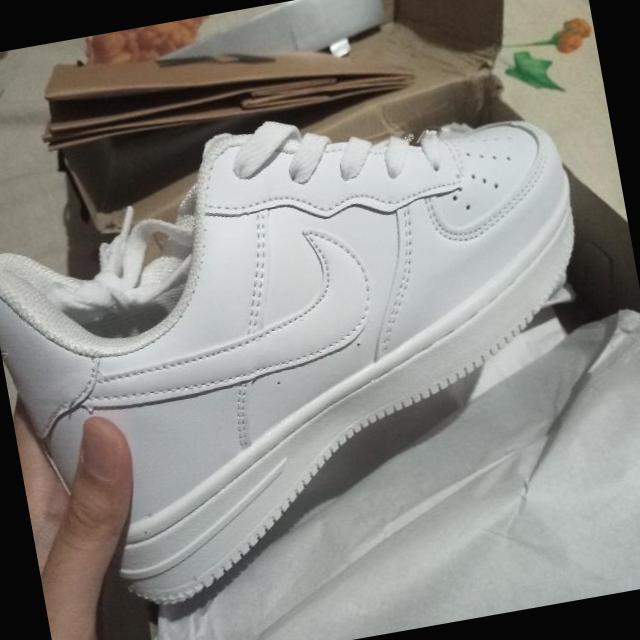nike_fake_airforce: (0, 67, 632, 634)
